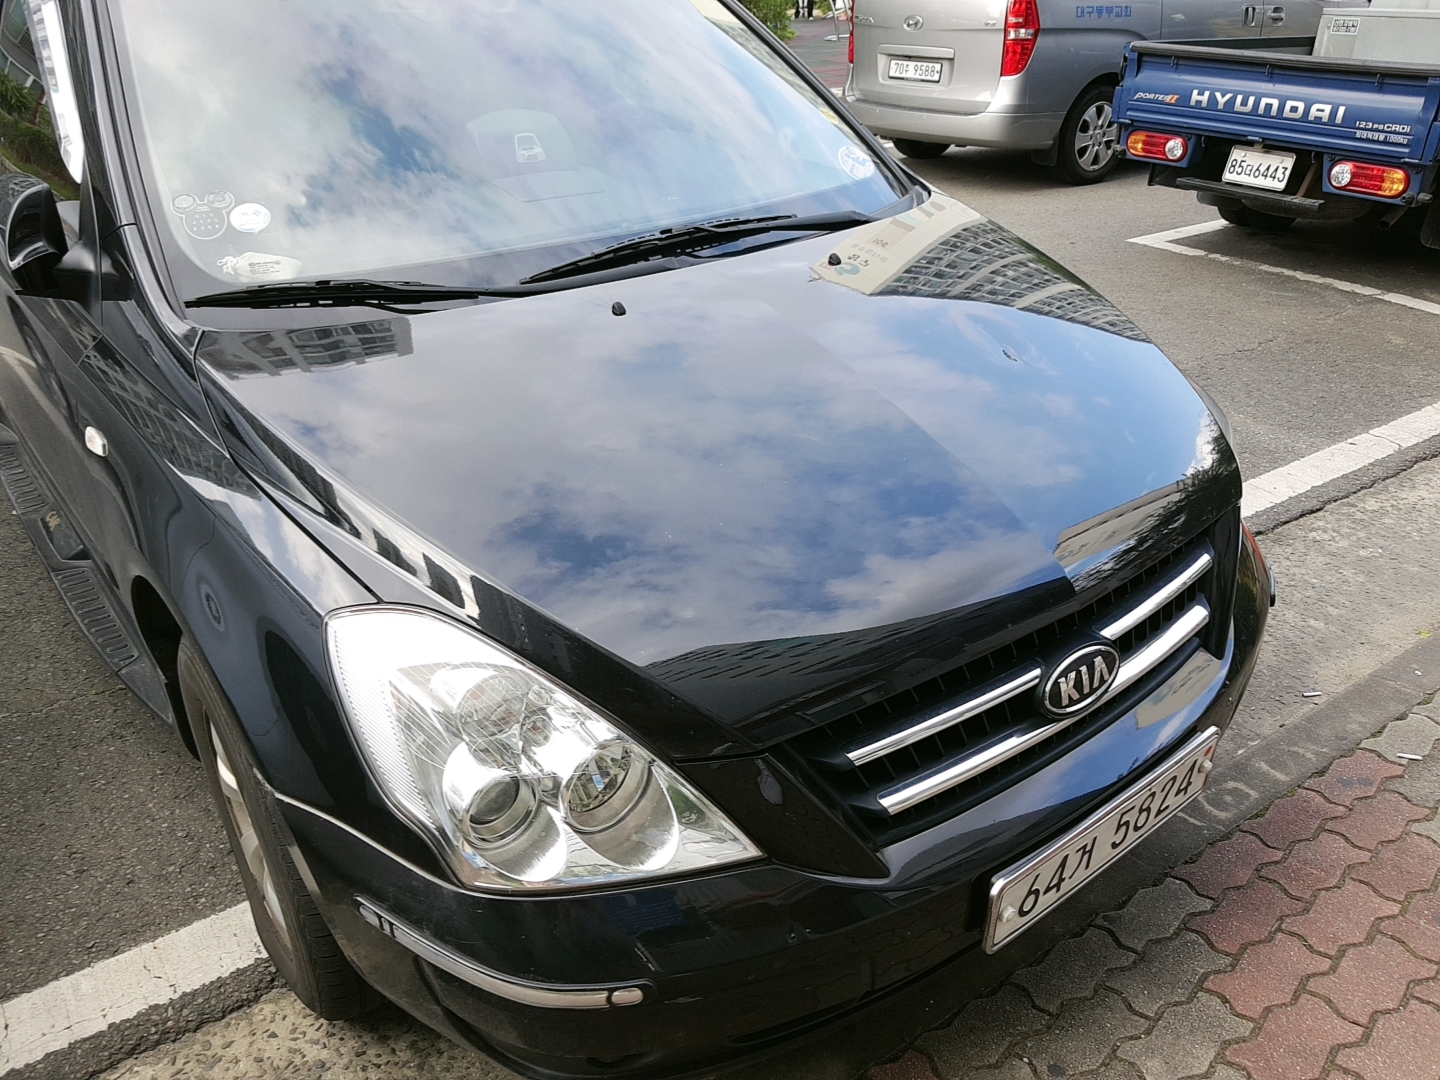disabled_parking: (831, 141, 879, 182)
etc: (173, 189, 239, 241), (225, 200, 276, 235), (814, 109, 846, 128)
